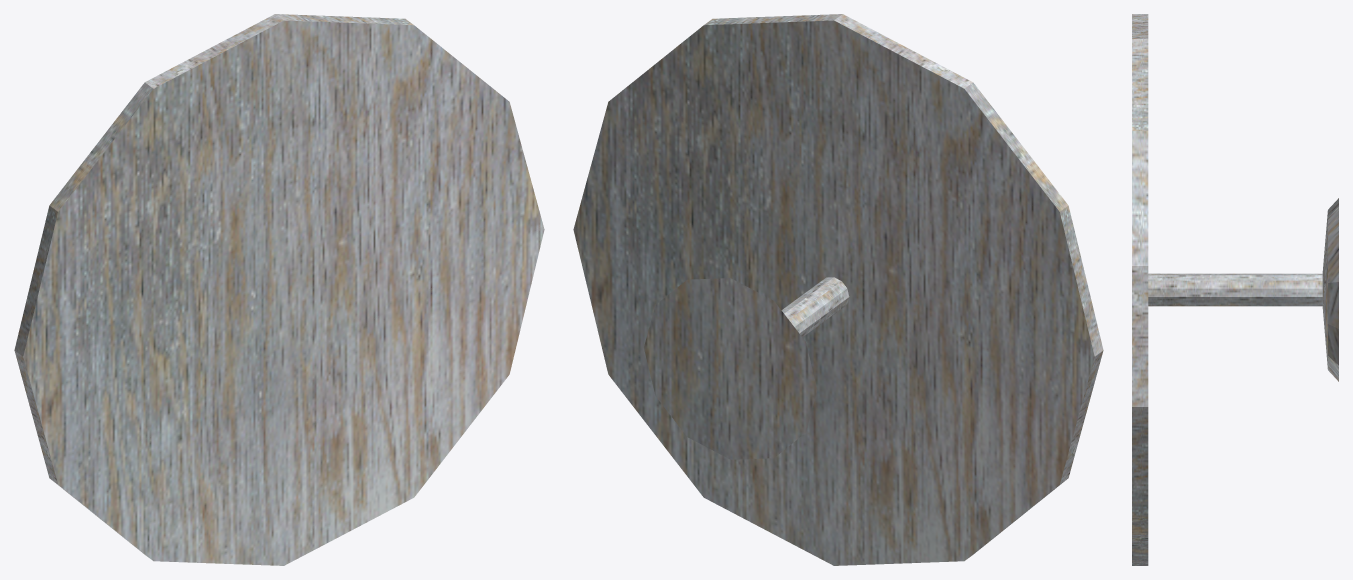
File: table126_wtf.obj
3 renders of one model, left to right at view 1: azimuth 30°, elevation 25°; view 2: azimuth 150°, elevation 25°; view 3: azimuth 270°, elevation 25°, orthographic. The views are drawn at different scales.
Visible parts, largest first — view 1: group2; view 2: group2; view 3: group2.
Part boxes in pixels (x1,y1,x2,y2): group2: (14, 14, 544, 565); group2: (573, 14, 1103, 565); group2: (1132, 14, 1338, 565).
Size of the model in its own units: 660 by 660 by 246.
